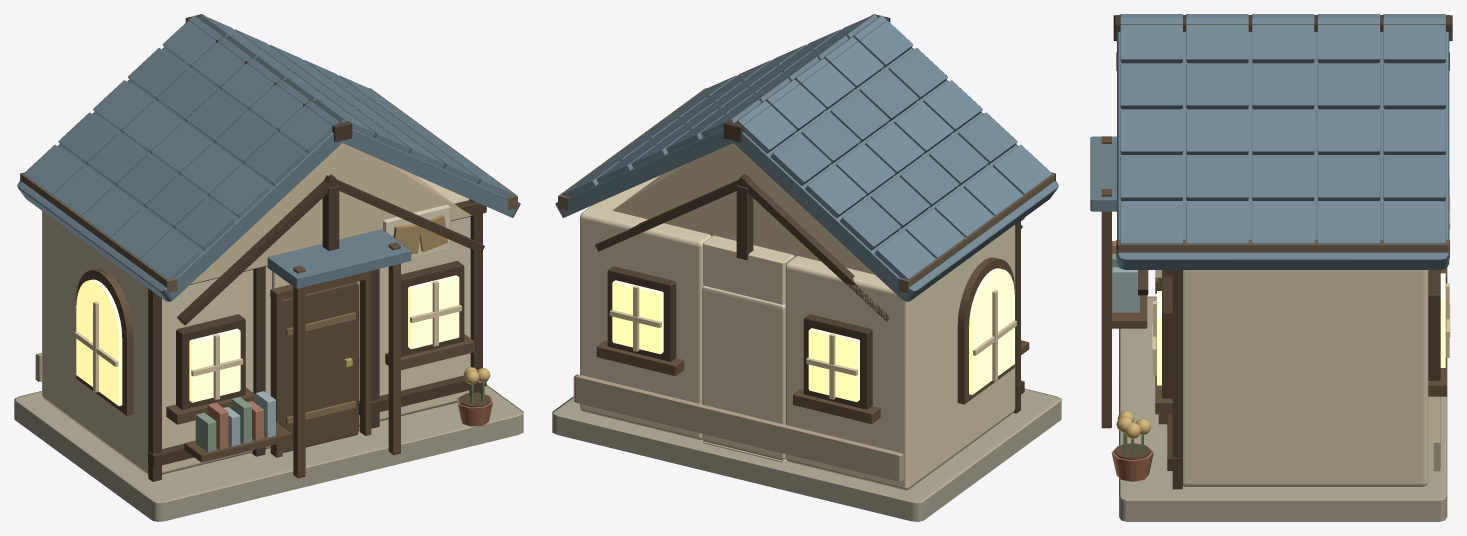
The model's file is library-2.glb.
The picture shows the model from 3 angles, left to right: view 1: azimuth 30°, elevation 25°; view 2: azimuth 150°, elevation 25°; view 3: azimuth 270°, elevation 25°; orthographic projection. The views are drawn at different scales.
Parts seen in each view (by area): view 1: library-2-0, door-hinge; view 2: library-2-0; view 3: library-2-0.
Part boxes in pixels (bbox=[...]): library-2-0: bbox=[14, 14, 523, 521]; door-hinge: bbox=[282, 282, 358, 452]; library-2-0: bbox=[552, 14, 1061, 521]; library-2-0: bbox=[1090, 14, 1452, 521].
Size of the model in its own units: 2.8 by 2.58 by 2.1.
